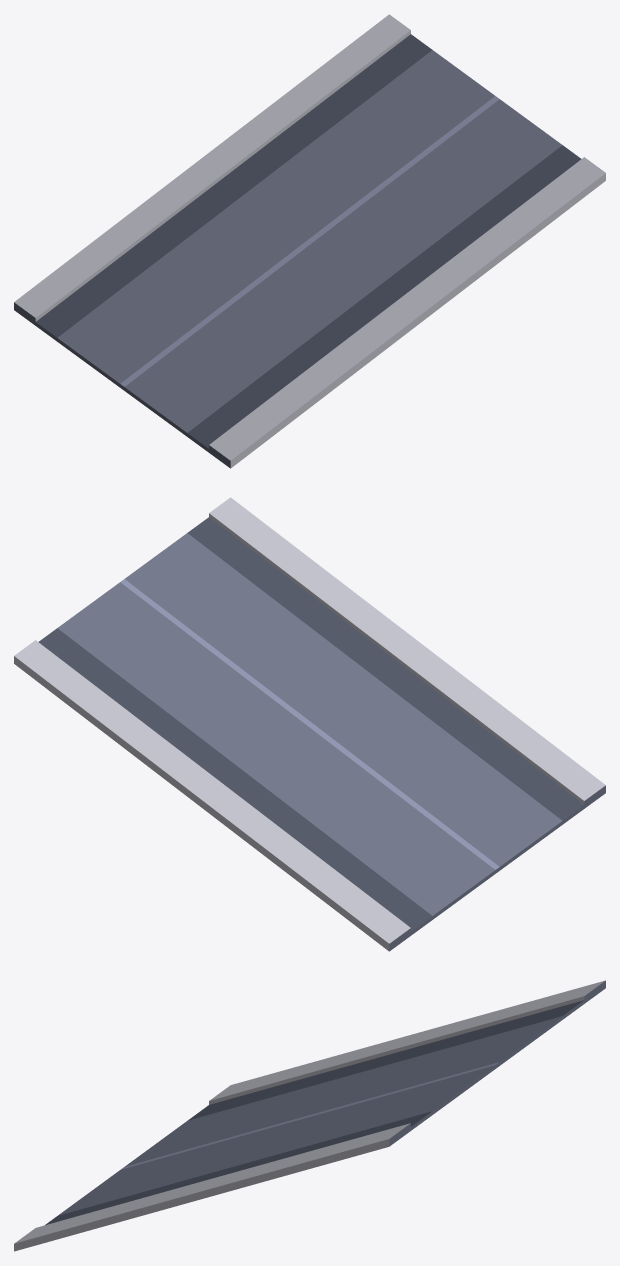
File: road_slantFlatHigh.glb
3 views of the same model, one above another, from view 1: azimuth 30°, elevation 25°; view 2: azimuth 150°, elevation 25°; view 3: azimuth 330°, elevation 25° (orthographic).
Visible parts, largest first — view 1: road_slantFlatHigh_f073c0, road_slantFlatHigh_bcff59, road_slantFlatHigh_713a10, road_slantFlatHigh_02a2be; view 2: road_slantFlatHigh_f073c0, road_slantFlatHigh_bcff59, road_slantFlatHigh_713a10, road_slantFlatHigh_02a2be; view 3: road_slantFlatHigh_f073c0, road_slantFlatHigh_bcff59, road_slantFlatHigh_713a10, road_slantFlatHigh_02a2be.
Boxes of the visible parts, x1,y1,x2,y2 form: road_slantFlatHigh_f073c0: [14, 50, 562, 468]; road_slantFlatHigh_bcff59: [14, 14, 605, 468]; road_slantFlatHigh_713a10: [36, 34, 581, 448]; road_slantFlatHigh_02a2be: [120, 96, 499, 386]; road_slantFlatHigh_f073c0: [57, 533, 605, 951]; road_slantFlatHigh_bcff59: [14, 497, 605, 951]; road_slantFlatHigh_713a10: [38, 517, 583, 931]; road_slantFlatHigh_02a2be: [120, 579, 499, 869]; road_slantFlatHigh_f073c0: [58, 980, 605, 1215]; road_slantFlatHigh_bcff59: [14, 980, 604, 1251]; road_slantFlatHigh_713a10: [45, 1000, 583, 1225]; road_slantFlatHigh_02a2be: [121, 1062, 498, 1169].
Size of the model in its own units: 1 by 0.52 by 1.
